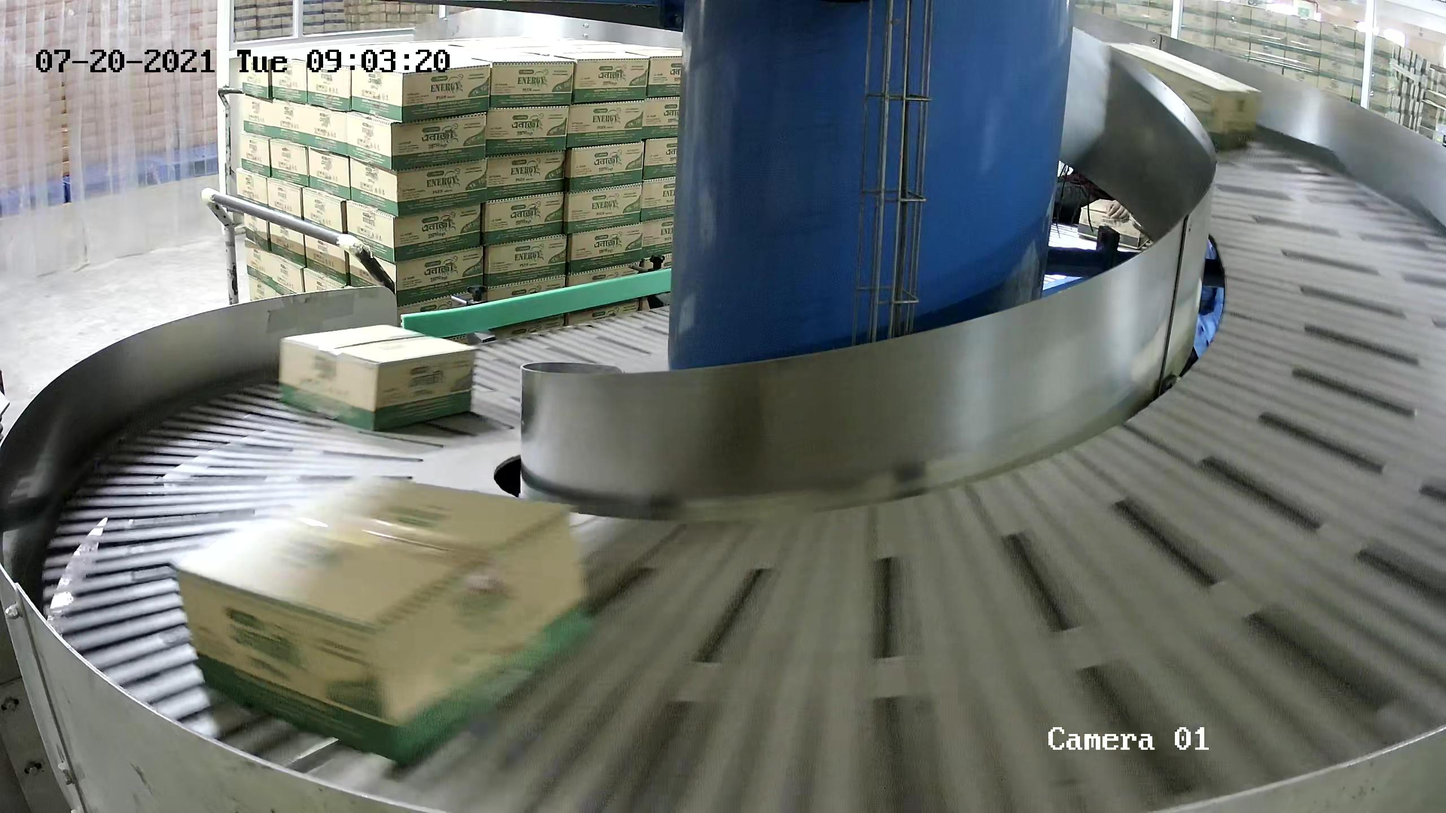Box: (170, 472, 593, 768), (279, 324, 477, 433), (1099, 42, 1261, 151)
